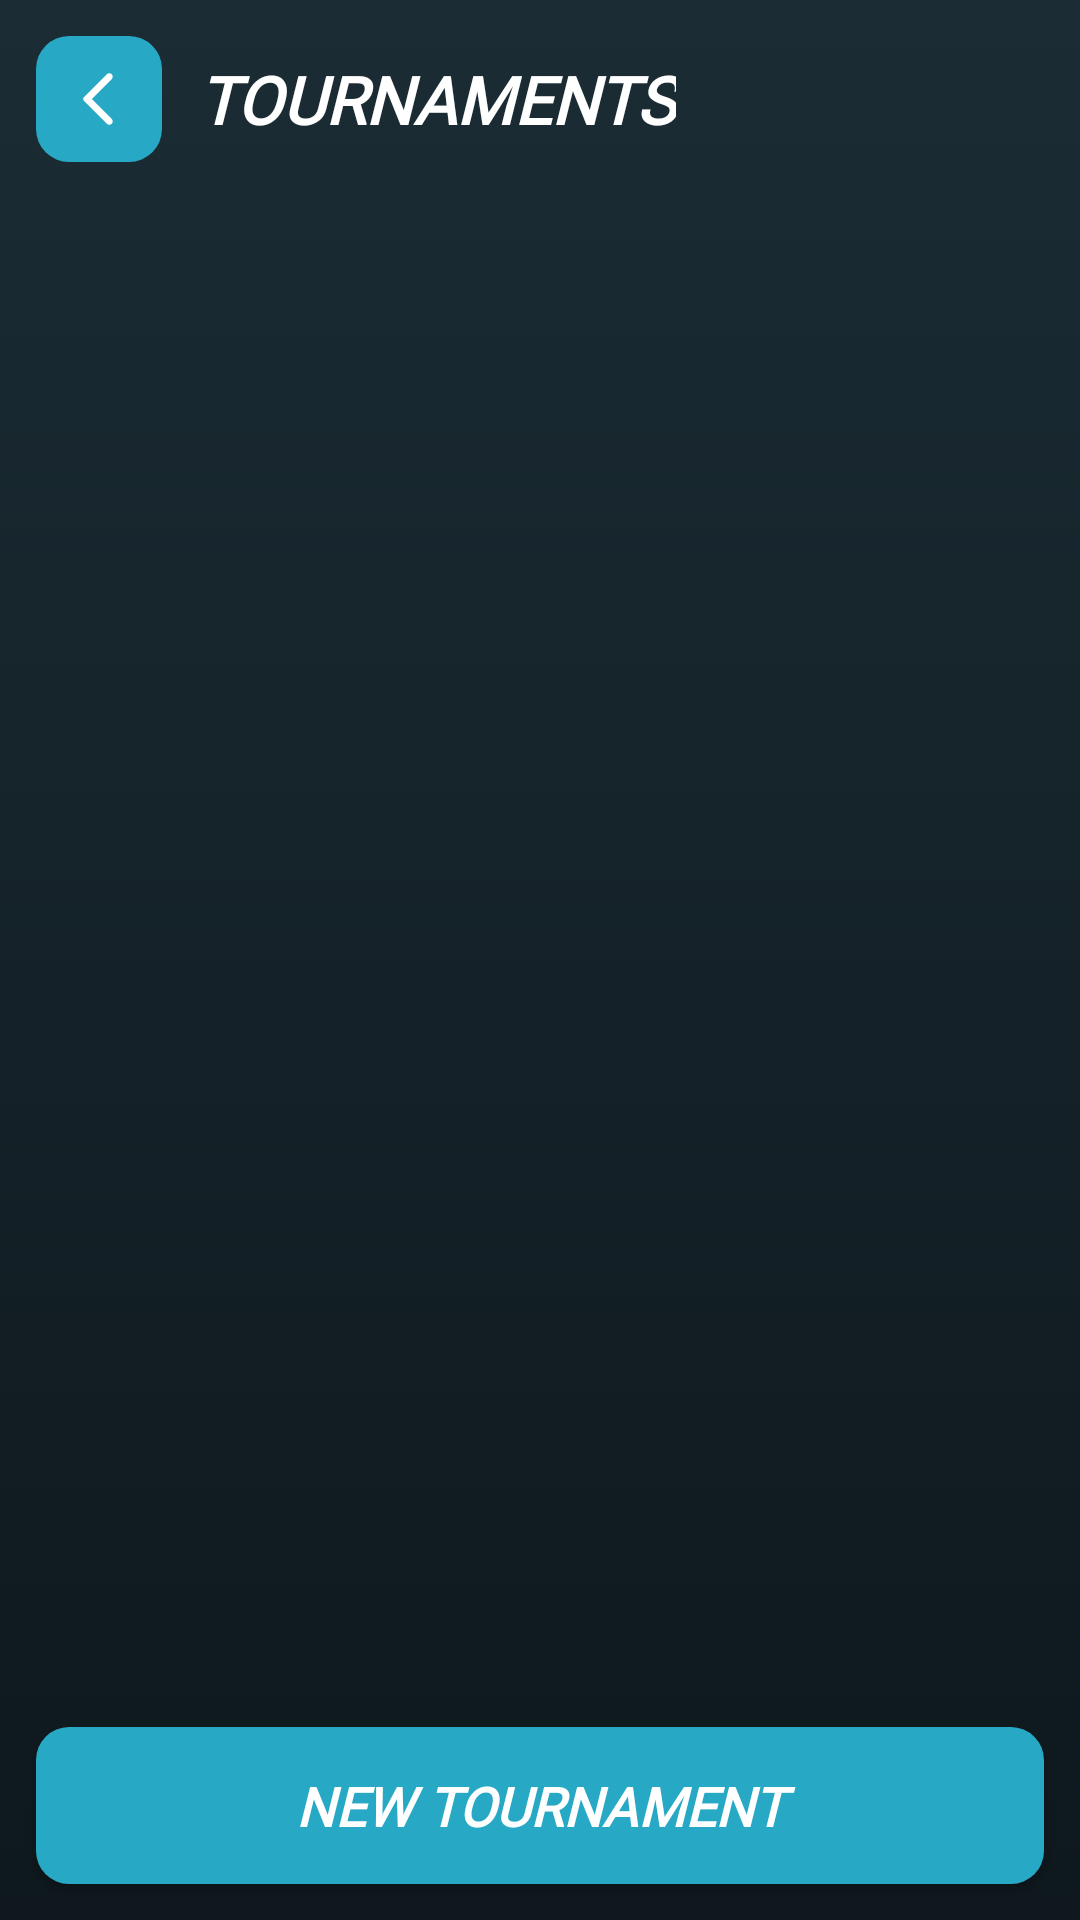

Where to tap for icons on this 1080*1920 app screen, as (x,y):
BACK: (99,99)
